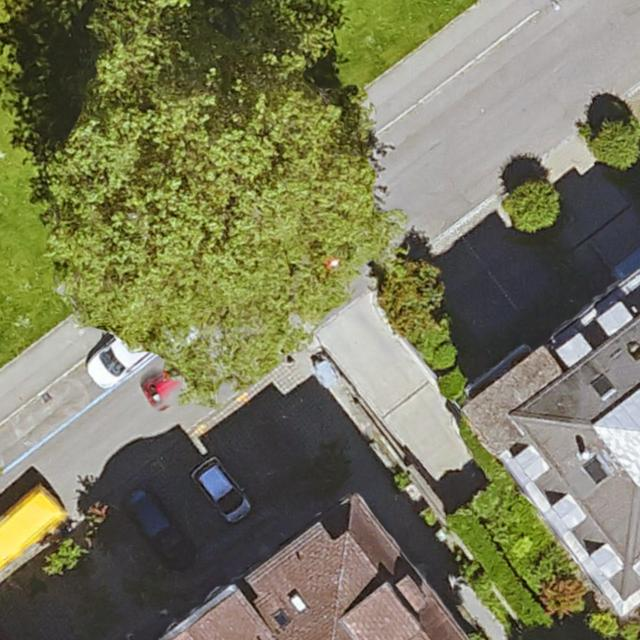tree: (46, 41, 396, 386), (377, 267, 444, 337), (506, 178, 559, 235), (594, 119, 640, 166), (304, 448, 347, 495), (48, 541, 87, 582), (88, 506, 123, 544)
